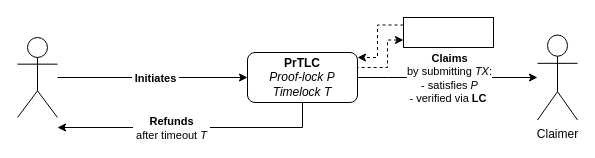
The diagram is 595 pixels wide and 158 high, and some of its shapes have lost their labels. Here are the shapes that lost their labels. From the top down, the centre of each, then its label:
point (448, 32): Bitcoin light client ( LC )
point (37, 77): Offerer
